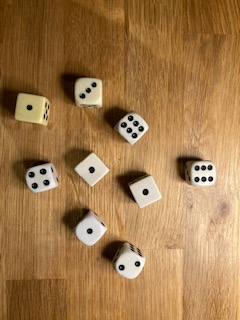four: (25, 162, 61, 194)
one: (125, 172, 163, 210), (73, 150, 110, 188), (14, 92, 50, 128), (74, 209, 107, 247)
six: (112, 109, 151, 146), (183, 157, 218, 188)
three: (73, 75, 104, 110)
two: (110, 240, 146, 280)
